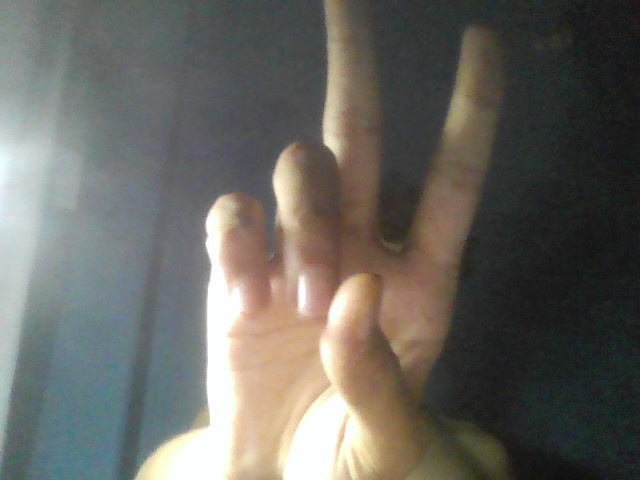LiveLong: (203, 4, 505, 480)
